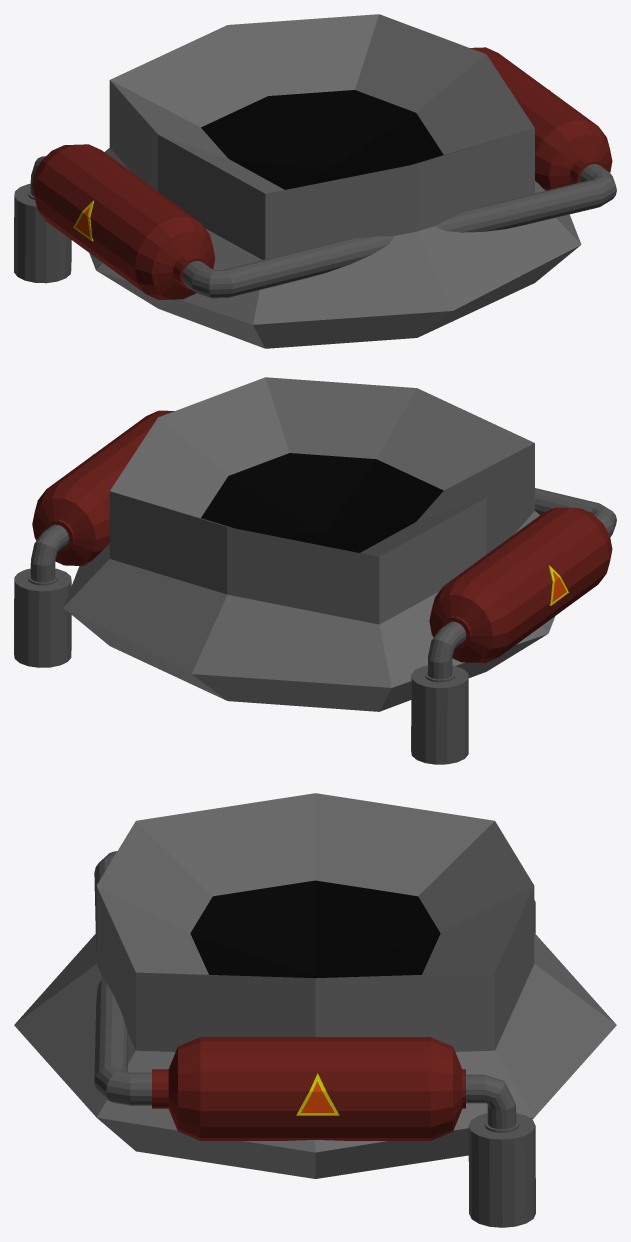
Rendered from FlameGeyser.fbx.
3 renders of one model, top to bottom at view 1: azimuth 30°, elevation 25°; view 2: azimuth 150°, elevation 25°; view 3: azimuth 270°, elevation 25°, orthographic. The views are drawn at different scales.
Parts seen in each view (by area): view 1: Cylinder; view 2: Cylinder; view 3: Cylinder.
Part boxes in pixels (x1,y1,x2,y2): Cylinder: (14, 14, 616, 348); Cylinder: (14, 377, 616, 764); Cylinder: (14, 793, 616, 1227).
Bounding box in the file's own units: 177 × 68.84 × 168.
